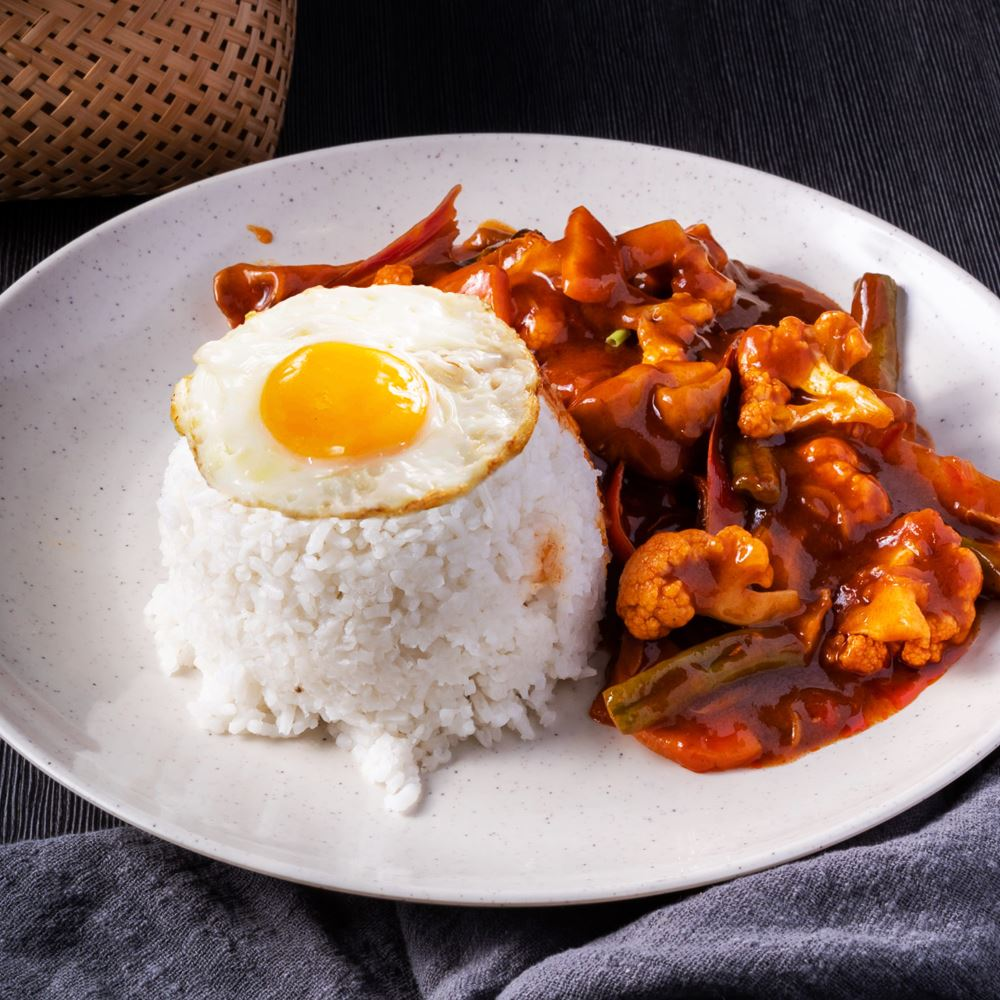daging: (619, 311, 897, 651)
makanan_berpati: (218, 533, 521, 693)
telur: (233, 318, 478, 484)
